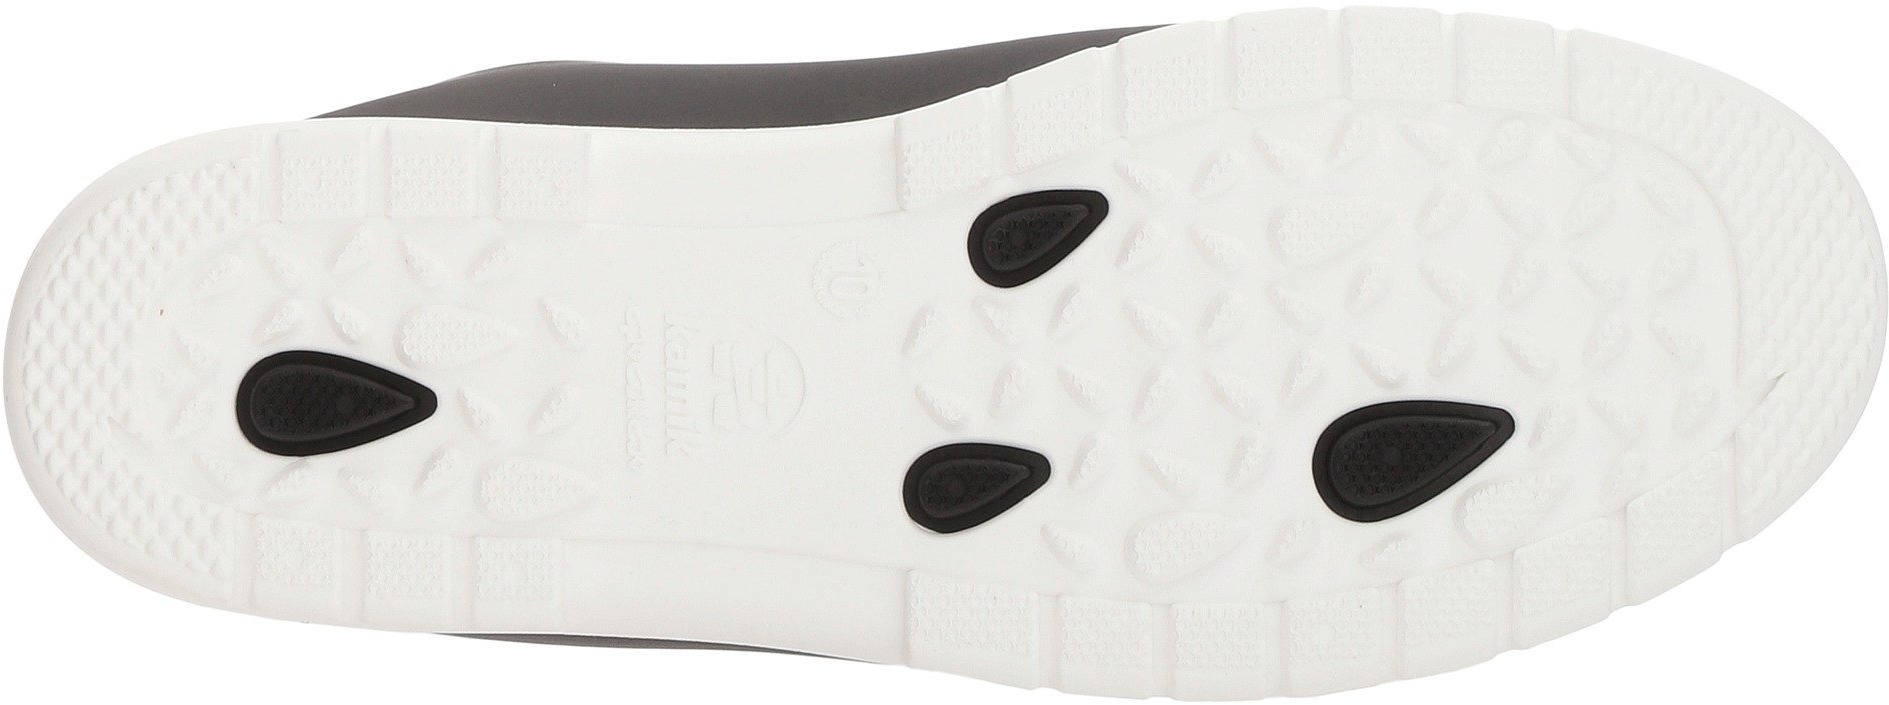text: (601, 309, 738, 456)
